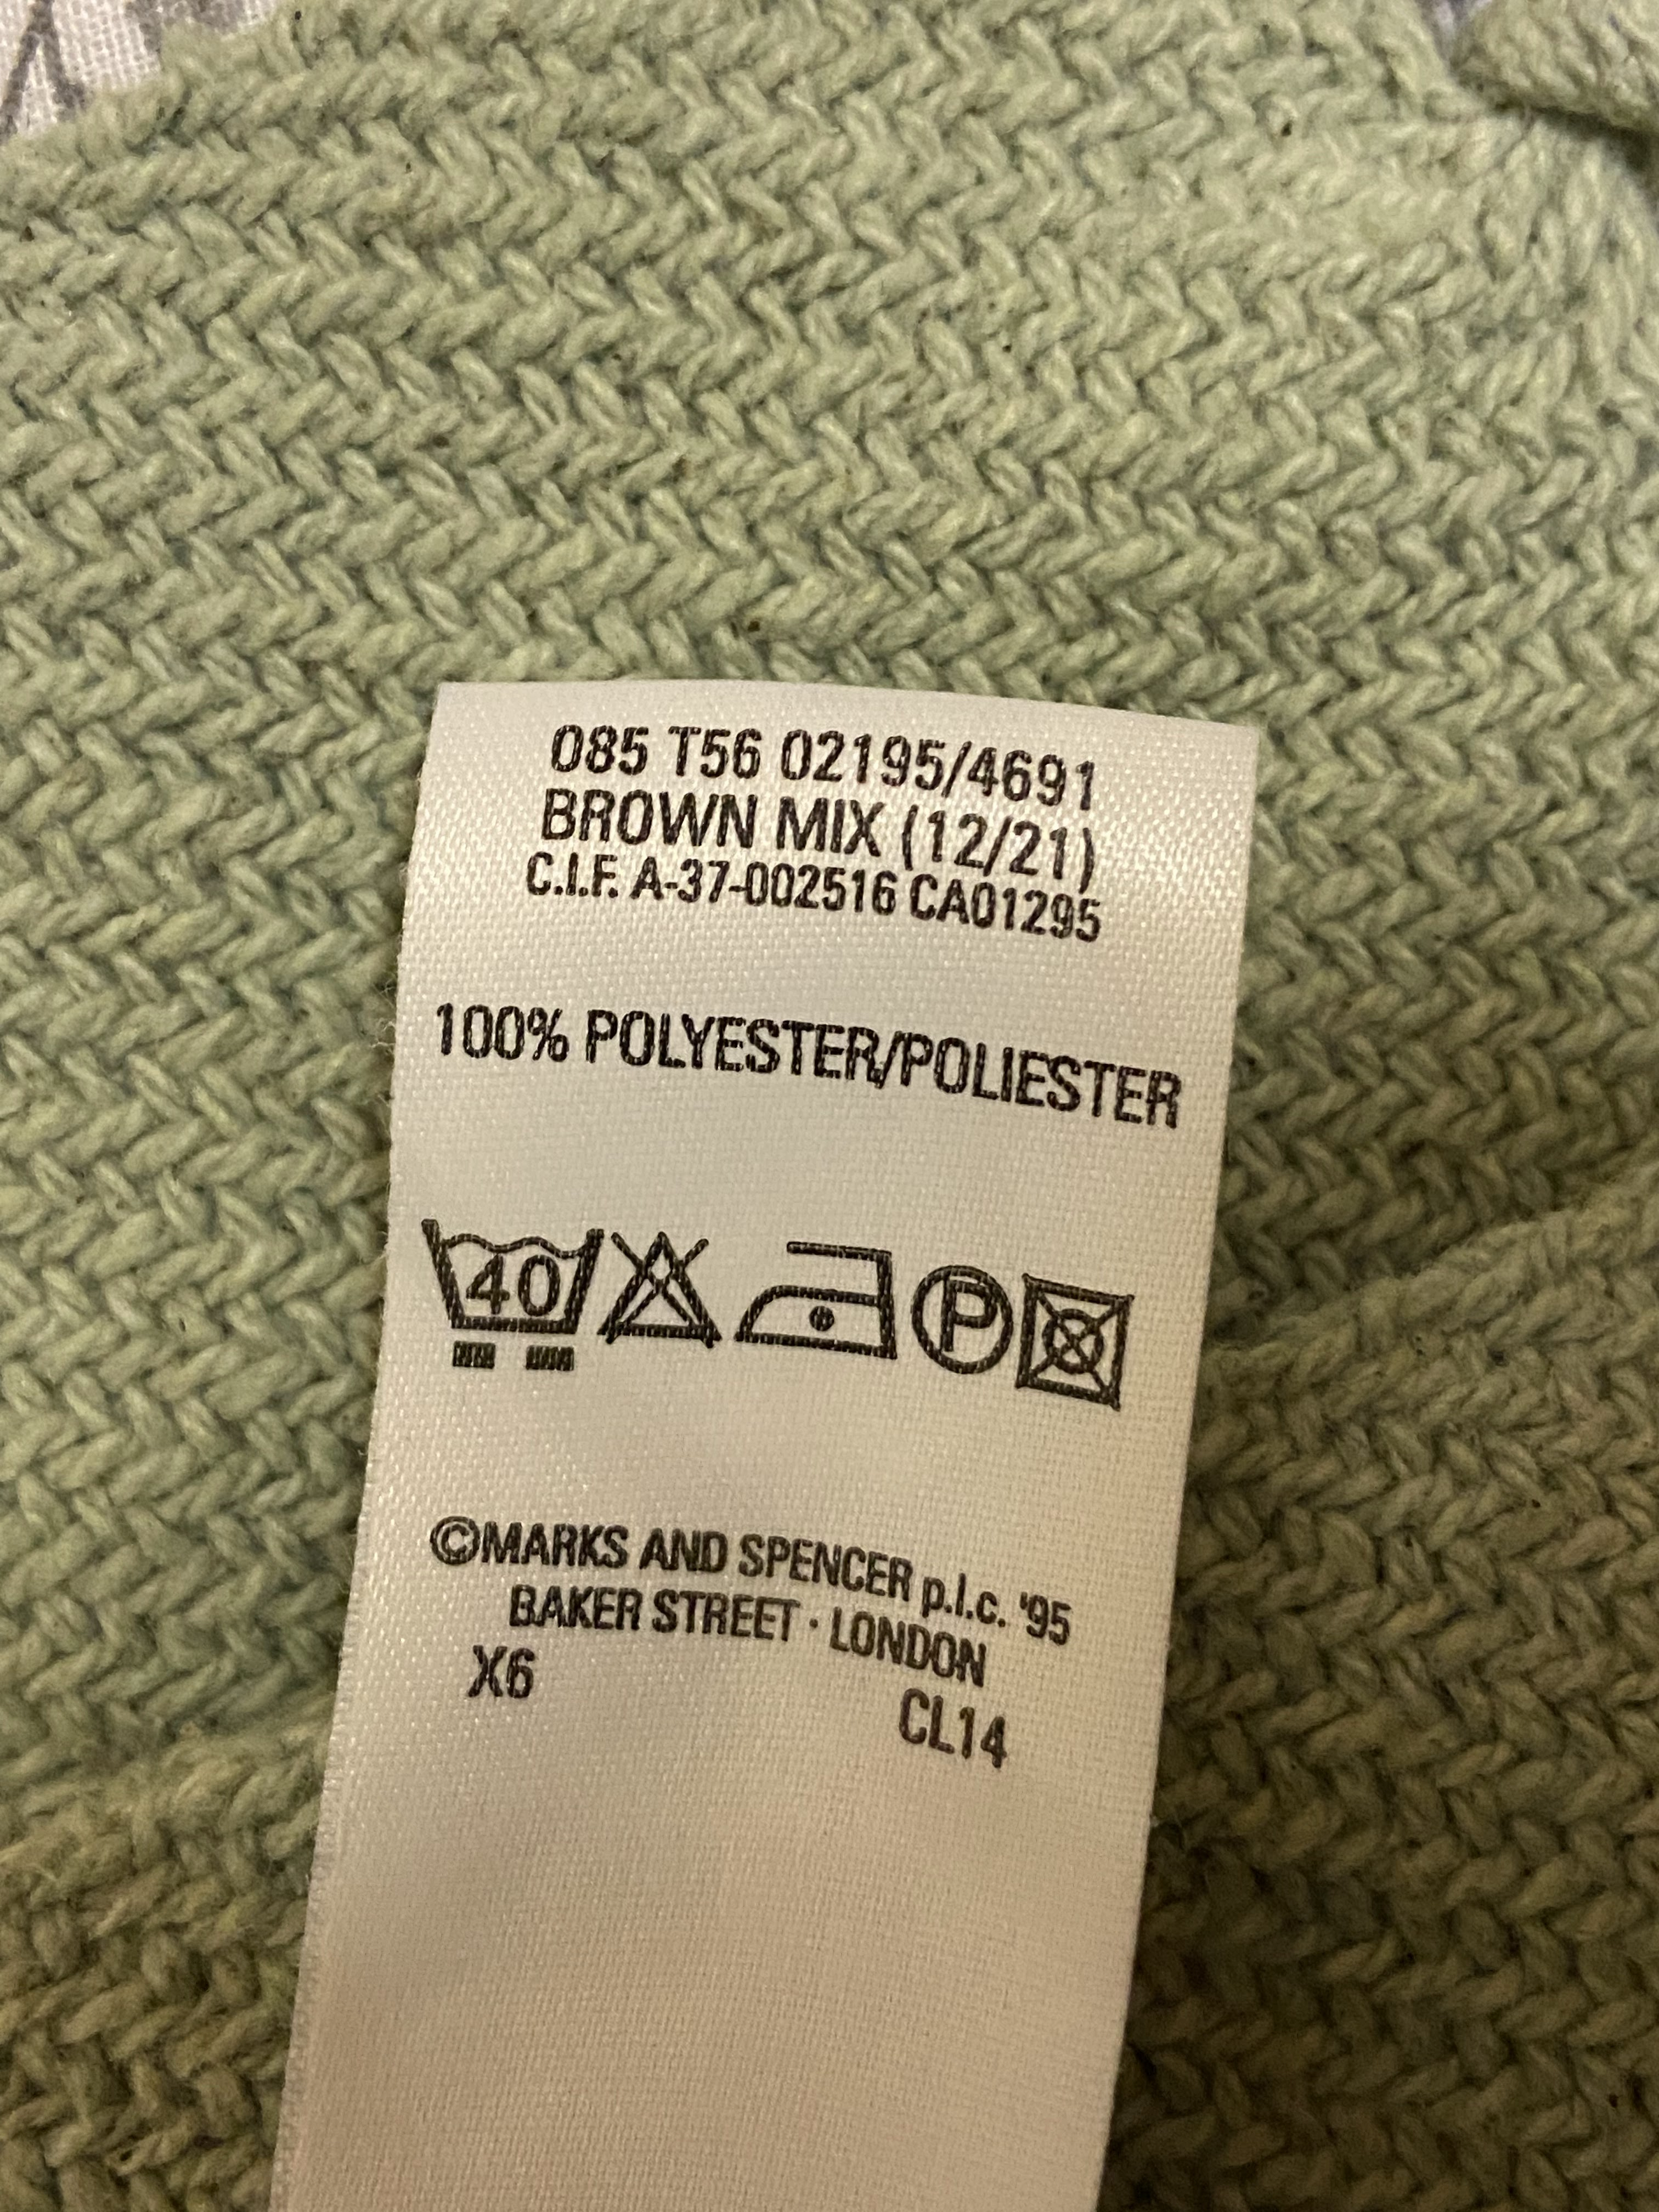do not bleach: (594, 1200, 730, 1369)
do not tumble dry: (1012, 1258, 1166, 1426)
dry clean: (906, 1228, 1021, 1399)
iron low temp: (716, 1200, 903, 1385)
wash at or below 40: (427, 1193, 601, 1362)
